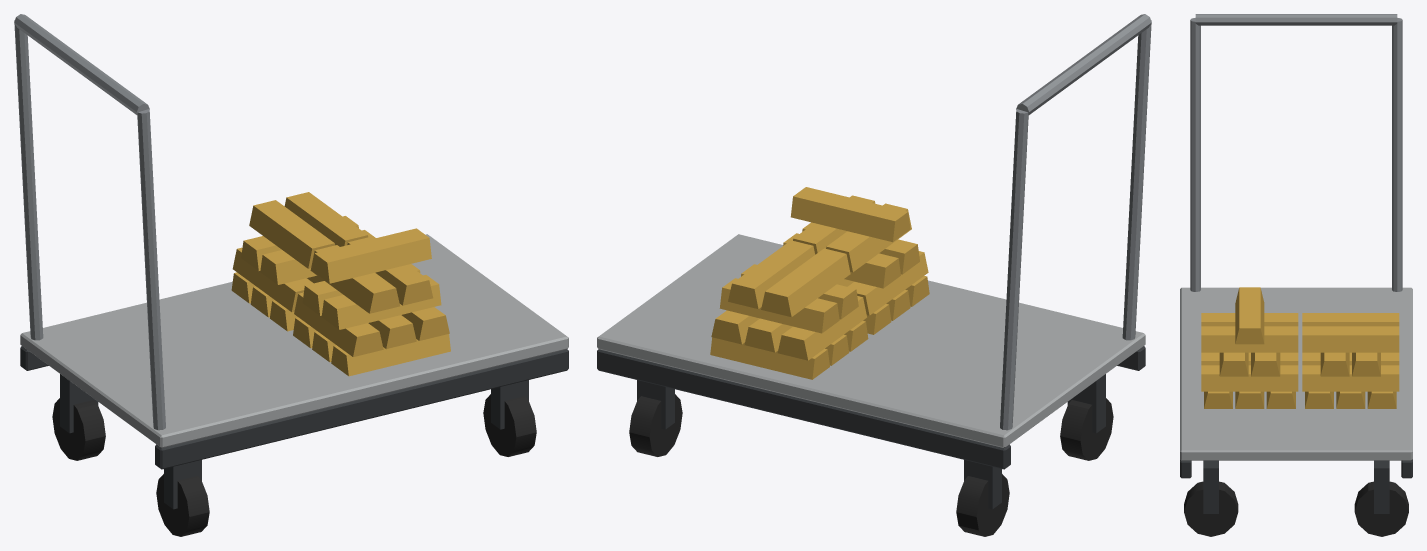
The model's file is prop_of_bullion_cart.glb.
3 views of the same model, side by side, from view 1: azimuth 30°, elevation 25°; view 2: azimuth 150°, elevation 25°; view 3: azimuth 270°, elevation 25° (orthographic). The views are drawn at different scales.
Visible parts, largest first — view 1: Cart; view 2: Cart; view 3: Cart.
Part boxes in pixels (x1,y1,x2,y2): Cart: (14, 14, 568, 536); Cart: (597, 14, 1151, 536); Cart: (1180, 14, 1412, 536).
Size of what is drawn, in the model's own units: 1.04 by 1.05 by 0.6.
